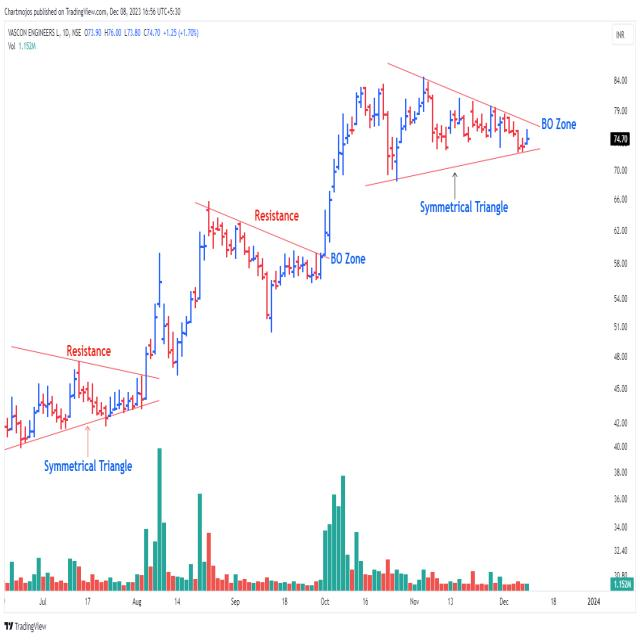Triangle: (307, 47, 569, 198), (0, 349, 7, 452)
